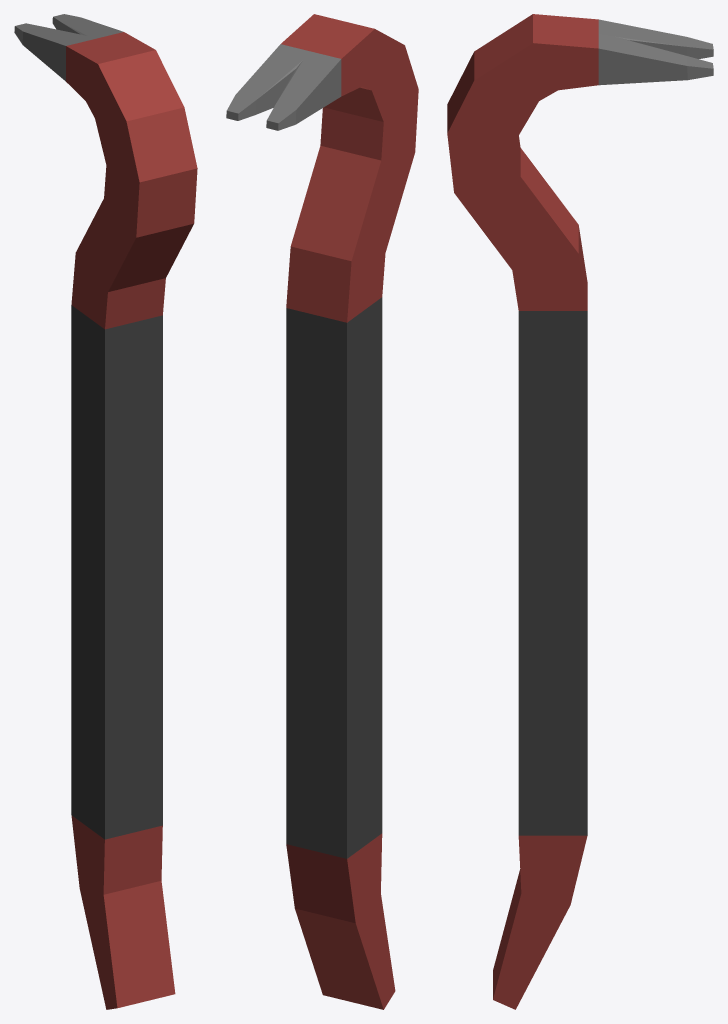
File: melee-crowbar.glb
The picture shows the model from 3 angles, left to right: view 1: azimuth 30°, elevation 25°; view 2: azimuth 150°, elevation 25°; view 3: azimuth 270°, elevation 25°; orthographic projection. The views are drawn at different scales.
Parts seen in each view (by area): view 1: piedsdebiche; view 2: piedsdebiche; view 3: piedsdebiche.
Part boxes in pixels (x1,y1,x2,y2): piedsdebiche: (14, 14, 197, 1009); piedsdebiche: (226, 14, 418, 1009); piedsdebiche: (447, 14, 713, 1009).
Bounding box in the file's own units: 40.27 × 624 × 156.
